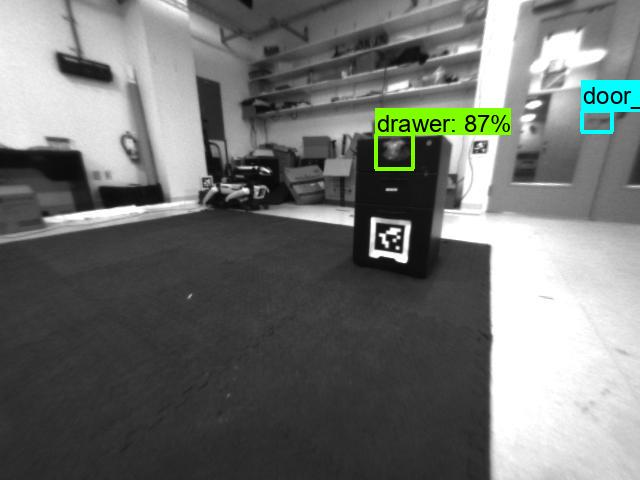door_handle: (579, 109, 611, 131)
drawer: (377, 134, 411, 166)
